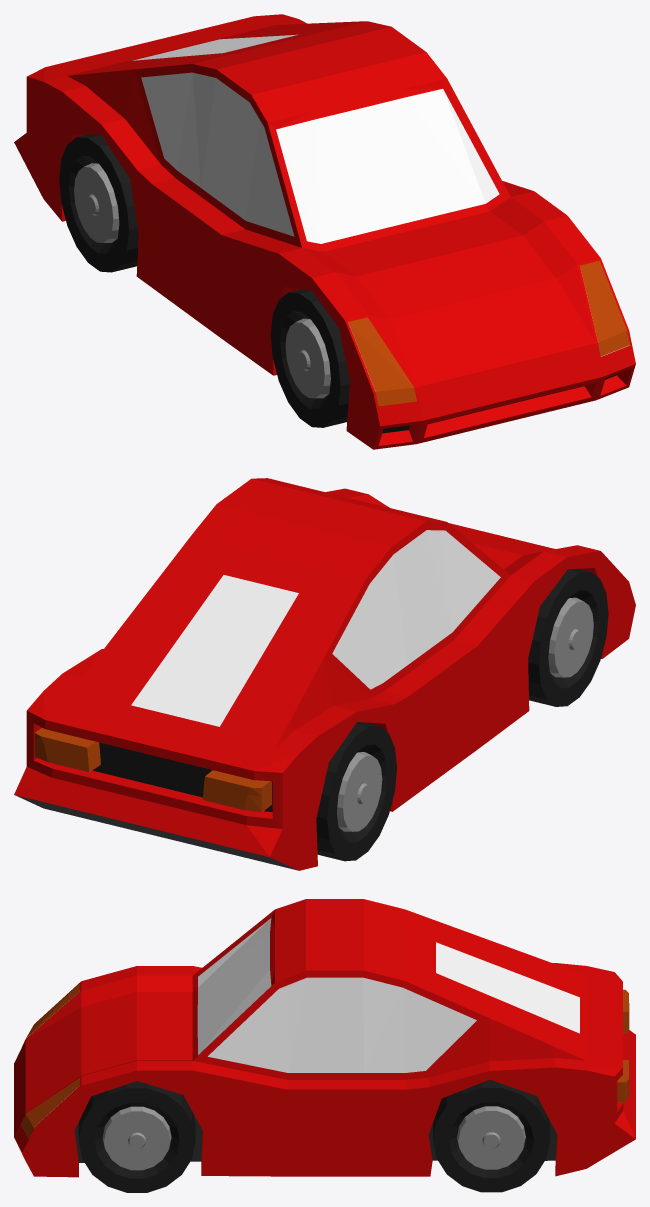
The model's file is RedCar.FBX.
3 views of the same model, one above another, from view 1: azimuth 30°, elevation 25°; view 2: azimuth 150°, elevation 25°; view 3: azimuth 270°, elevation 25° (orthographic). The views are drawn at different scales.
Parts seen in each view (by area): view 1: red (×2), RightBlinker, LeftBlinker; view 2: red (×2), RightBlinker, LeftBlinker; view 3: red (×2), LeftBlinker, RightBlinker.
Part boxes in pixels (x1,y1,x2,y2): red (×2): (14,14,635,449); RightBlinker: (348,317,416,406); LeftBlinker: (580,260,629,356); red (×2): (14,478,635,870); RightBlinker: (202,770,271,811); LeftBlinker: (34,727,100,771); red (×2): (14,899,635,1192); LeftBlinker: (21,1060,629,1137); RightBlinker: (22,983,629,1045).
Size of the model in its own units: 161 by 136 by 377.
2 materials, 1 textured.
